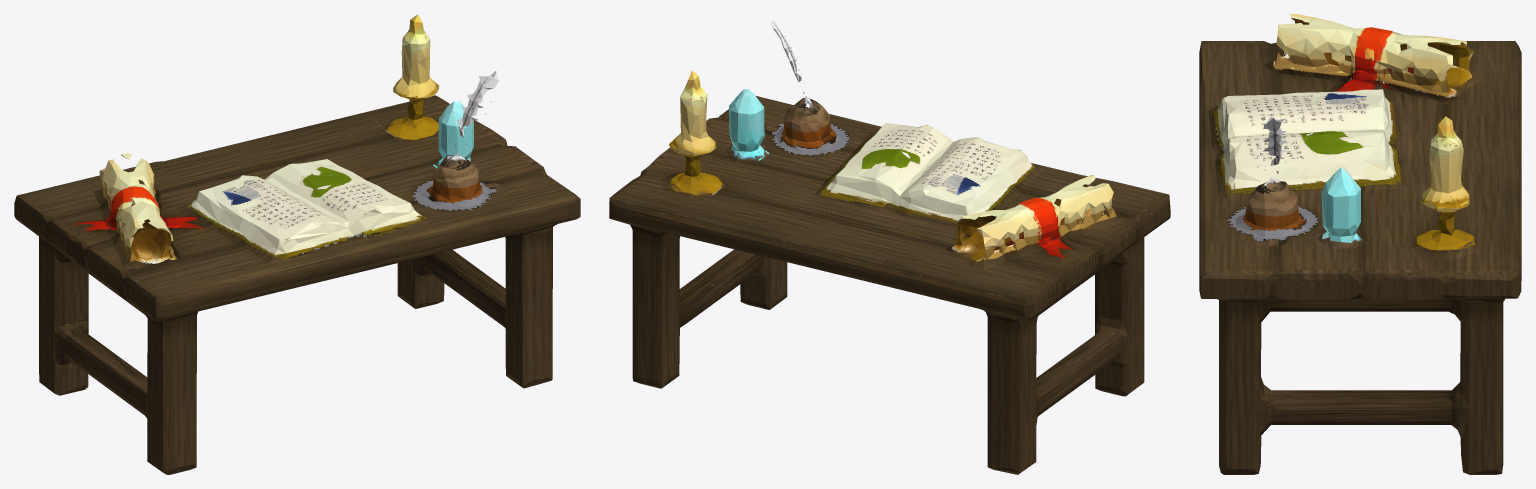
File: tut_arcanedesk.glb
3 views of the same model, side by side, from view 1: azimuth 30°, elevation 25°; view 2: azimuth 150°, elevation 25°; view 3: azimuth 270°, elevation 25° (orthographic). The views are drawn at different scales.
Parts seen in each view (by area): view 1: tut_arcanedesk; view 2: tut_arcanedesk; view 3: tut_arcanedesk.
Part boxes in pixels (x1,y1,x2,y2): tut_arcanedesk: [14, 14, 580, 474]; tut_arcanedesk: [609, 14, 1170, 474]; tut_arcanedesk: [1199, 14, 1521, 474].
Size of the model in its own units: 1.61 by 1.1 by 0.938.
Materials: 1 (1 with a texture image).
